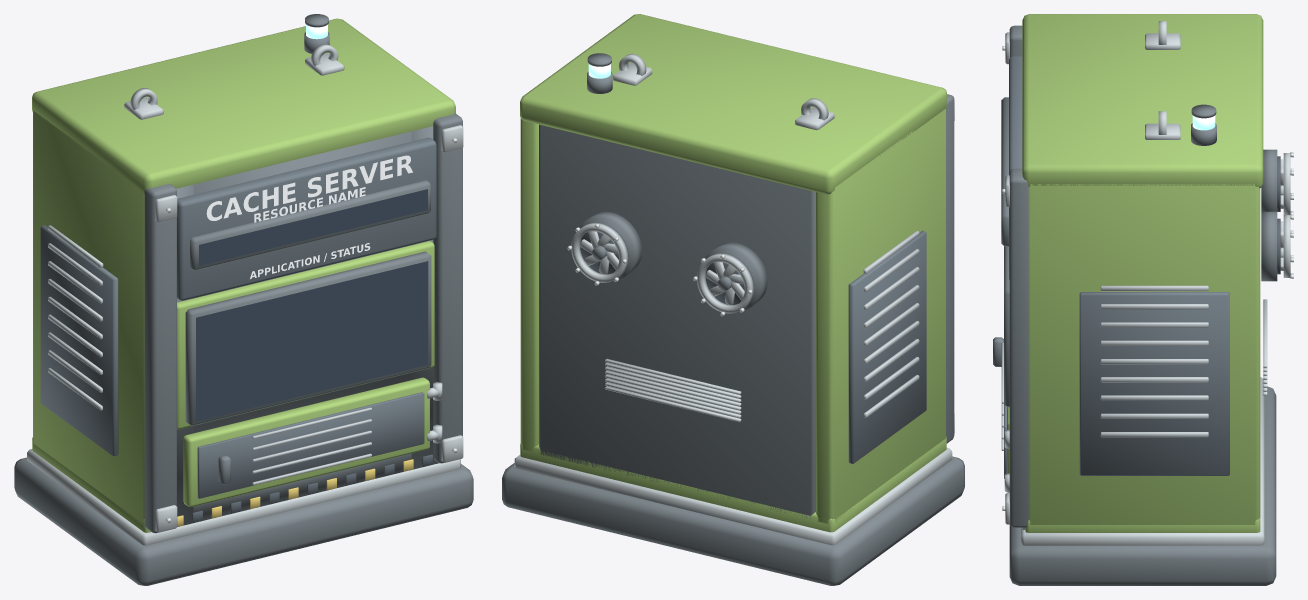
File: cache_server_ultra.glb
3 renders of one model, left to right at view 1: azimuth 30°, elevation 25°; view 2: azimuth 150°, elevation 25°; view 3: azimuth 270°, elevation 25°, orthographic. The views are drawn at different scales.
Visible parts, largest first — view 1: Roof_lime, LiveViewSurface_glass, SideWall_lime, Skid_frame, CornerPost_frame, FrontHeader_graphite, SideServicePanel_graphite, DoorMoving_Inset_graphite, DoorMoving_Panel_lime, SkidDeck_steel, LiveViewSurfaceFrame_frame, ResourceNameSurface_glass (+15 smaller); view 2: BackWall_frame, Roof_lime, SideWall_lime, Skid_frame, SideServicePanel_graphite, SkidDeck_steel, KickPlate_lime, RearFan_steel, RearVent_steel, SideLouver_steel, CornerPost_frame, RearFan_frame (+3 smaller); view 3: SideWall_lime, Roof_lime, SideServicePanel_graphite, Skid_frame, CornerPost_frame, SideLouver_steel, SkidDeck_steel, RearFan_frame, KickPlate_lime, FrontHeader_graphite, RearFan_steel, ResourceNameSurfaceFrame_frame (+7 smaller).
Part boxes in pixels (left/top/right/bottom): Roof_lime: left=32, top=18, right=455, bottom=194; LiveViewSurface_glass: left=196, top=261, right=428, bottom=421; SideWall_lime: left=33, top=110, right=144, bottom=523; Skid_frame: left=14, top=457, right=473, bottom=585; CornerPost_frame: left=144, top=114, right=462, bottom=533; FrontHeader_graphite: left=177, top=137, right=436, bottom=300; SideServicePanel_graphite: left=40, top=225, right=118, bottom=456; DoorMoving_Inset_graphite: left=197, top=392, right=424, bottom=498; DoorMoving_Panel_lime: left=183, top=377, right=429, bottom=506; SkidDeck_steel: left=27, top=449, right=460, bottom=545; LiveViewSurfaceFrame_frame: left=185, top=251, right=431, bottom=425; ResourceNameSurface_glass: left=199, top=189, right=427, bottom=265; BackWall_frame: left=539, top=124, right=815, bottom=518; Roof_lime: left=520, top=14, right=946, bottom=194; SideWall_lime: left=520, top=109, right=945, bottom=523; Skid_frame: left=502, top=456, right=964, bottom=585; SideServicePanel_graphite: left=848, top=230, right=926, bottom=463; SkidDeck_steel: left=514, top=447, right=952, bottom=545; KickPlate_lime: left=520, top=437, right=946, bottom=532; RearFan_steel: left=571, top=222, right=753, bottom=313; RearVent_steel: left=605, top=359, right=741, bottom=422; SideLouver_steel: left=863, top=231, right=919, bottom=417; CornerPost_frame: left=946, top=94, right=954, bottom=443; RearFan_frame: left=579, top=211, right=767, bottom=311; SideWall_lime: left=1028, top=184, right=1260, bottom=524; Roof_lime: left=1022, top=14, right=1263, bottom=188; SideServicePanel_graphite: left=1079, top=292, right=1229, bottom=475; Skid_frame: left=1009, top=386, right=1276, bottom=585; CornerPost_frame: left=1009, top=25, right=1028, bottom=527; SideLouver_steel: left=1100, top=285, right=1208, bottom=437; SkidDeck_steel: left=1021, top=377, right=1264, bottom=545; RearFan_frame: left=1261, top=149, right=1277, bottom=281; KickPlate_lime: left=1025, top=518, right=1260, bottom=532; FrontHeader_graphite: left=1009, top=56, right=1022, bottom=279; RearFan_steel: left=1280, top=153, right=1290, bottom=277; ResourceNameSurfaceFrame_frame: left=1001, top=97, right=1008, bottom=246.
Size of the model in its own units: 2 by 2.48 by 1.51.
